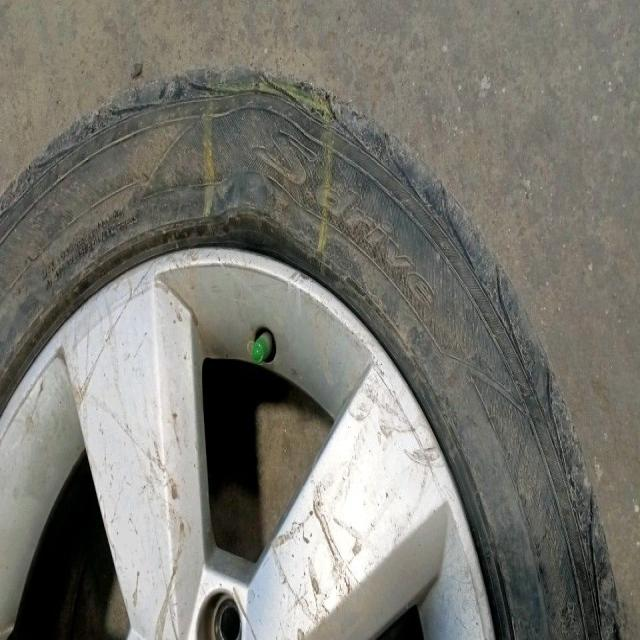Bulge: (206, 85, 315, 249)
